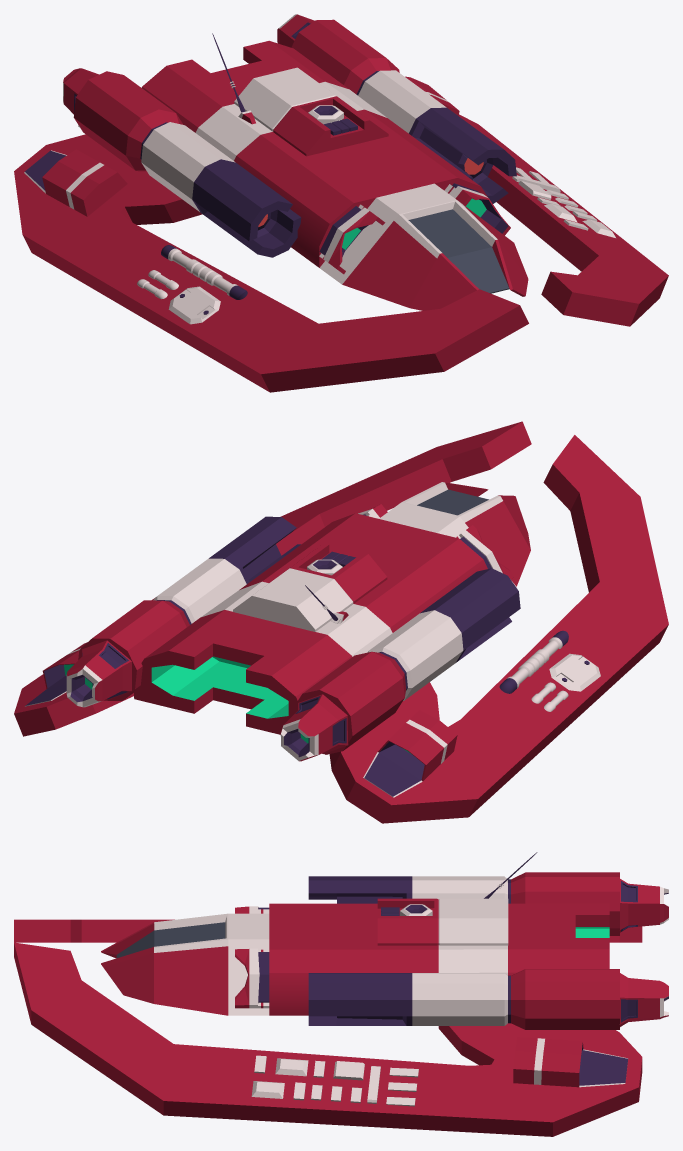
The model's file is PlayerShipModel.fbx.
The picture shows the model from 3 angles, top to bottom: view 1: azimuth 30°, elevation 25°; view 2: azimuth 150°, elevation 25°; view 3: azimuth 270°, elevation 25°; orthographic projection. The views are drawn at different scales.
Parts seen in each view (by area): view 1: mergedBlocks; view 2: mergedBlocks; view 3: mergedBlocks.
Part boxes in pixels (x1,y1,x2,y2): mergedBlocks: (14, 14, 668, 392); mergedBlocks: (14, 421, 668, 823); mergedBlocks: (14, 852, 668, 1136).
Size of the model in its own units: 0.3693 by 0.1431 by 0.5069.
